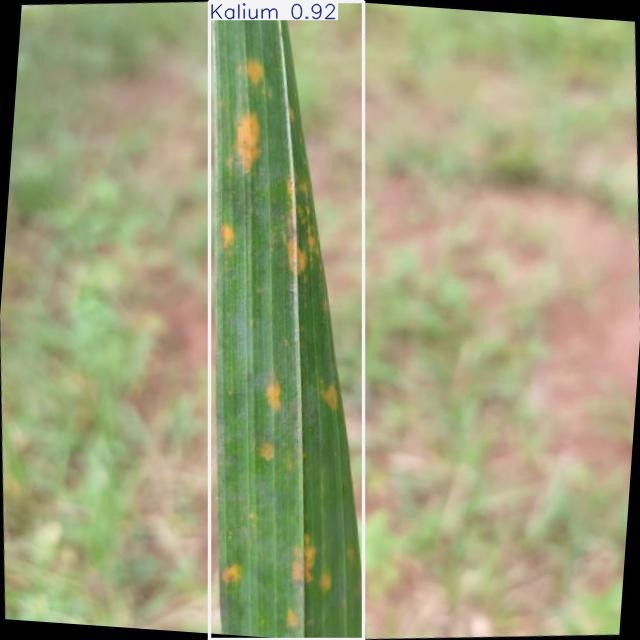Kalium: (209, 1, 364, 640)
